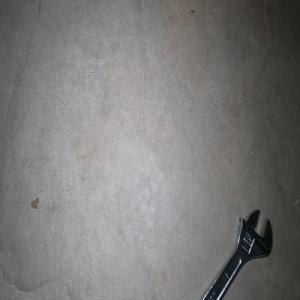Wrench: (201, 209, 272, 300)
